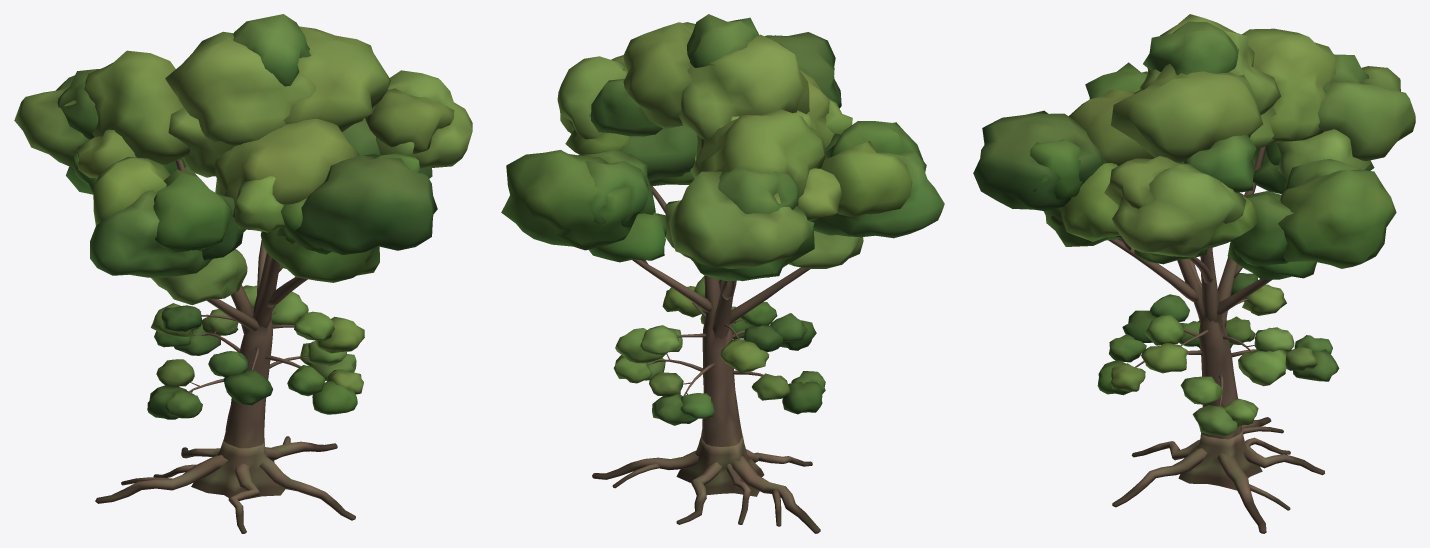
Rendered from skyroot_tree.glb.
The picture shows the model from 3 angles, left to right: view 1: azimuth 30°, elevation 25°; view 2: azimuth 150°, elevation 25°; view 3: azimuth 270°, elevation 25°; orthographic projection. The views are drawn at different scales.
Parts seen in each view (by area): view 1: CrownLeaves, BranchL_0_Leaves, BranchL_2_Leaves, BranchL_4_Leaves, Roots, BranchL_3_Leaves, Trunk, BranchS_6_Leaves, Stump, BranchS_4_Leaves, BranchS_5_Leaves, BranchS_7_Leaves (+5 smaller); view 2: CrownLeaves, BranchL_1_Leaves, BranchL_0_Leaves, BranchL_3_Leaves, Roots, Trunk, BranchL_4_Leaves, BranchL_2_Leaves, BranchS_2_Leaves, BranchS_4_Leaves, Stump, BranchS_3_Leaves (+7 smaller); view 3: CrownLeaves, BranchL_1_Leaves, BranchL_2_Leaves, BranchL_4_Leaves, BranchL_3_Leaves, Trunk, Roots, BranchS_0_Leaves, BranchS_1_Leaves, Stump, BranchS_6_Leaves, BranchS_7_Leaves (+7 smaller).
Boxes of the visible parts, x1,y1,x2,y2 form: CrownLeaves: (66,14,432,282); BranchL_0_Leaves: (90,157,247,304); BranchL_2_Leaves: (277,153,437,268); BranchL_4_Leaves: (365,70,472,168); Roots: (95,436,355,533); BranchL_3_Leaves: (14,69,196,175); Trunk: (175,160,279,448); BranchS_6_Leaves: (287,365,363,414); Stump: (191,440,285,498); BranchS_4_Leaves: (147,359,202,419); BranchS_5_Leaves: (208,351,272,405); BranchS_7_Leaves: (294,311,364,353); CrownLeaves: (591,14,852,280); BranchL_1_Leaves: (501,149,666,262); BranchL_0_Leaves: (789,121,944,268); BranchL_3_Leaves: (665,167,811,268); Roots: (592,449,820,533); Trunk: (697,135,742,446); BranchL_4_Leaves: (557,55,694,186); BranchL_2_Leaves: (764,32,841,108); BranchS_2_Leaves: (649,372,714,425); BranchS_4_Leaves: (752,371,825,414); Stump: (676,436,764,496); BranchS_3_Leaves: (720,325,783,373); CrownLeaves: (1043,14,1374,256); BranchL_1_Leaves: (1227,159,1396,279); BranchL_2_Leaves: (973,110,1120,241); BranchL_4_Leaves: (1104,156,1258,264); BranchL_3_Leaves: (1253,54,1415,193); Trunk: (1177,146,1266,439); Roots: (1112,417,1324,533); BranchS_0_Leaves: (1180,376,1258,436); BranchS_1_Leaves: (1238,327,1294,386); Stump: (1178,430,1262,490); BranchS_6_Leaves: (1097,334,1146,395); BranchS_7_Leaves: (1141,315,1187,373).
Size of the model in its own units: 6.46 by 7.81 by 6.76.
